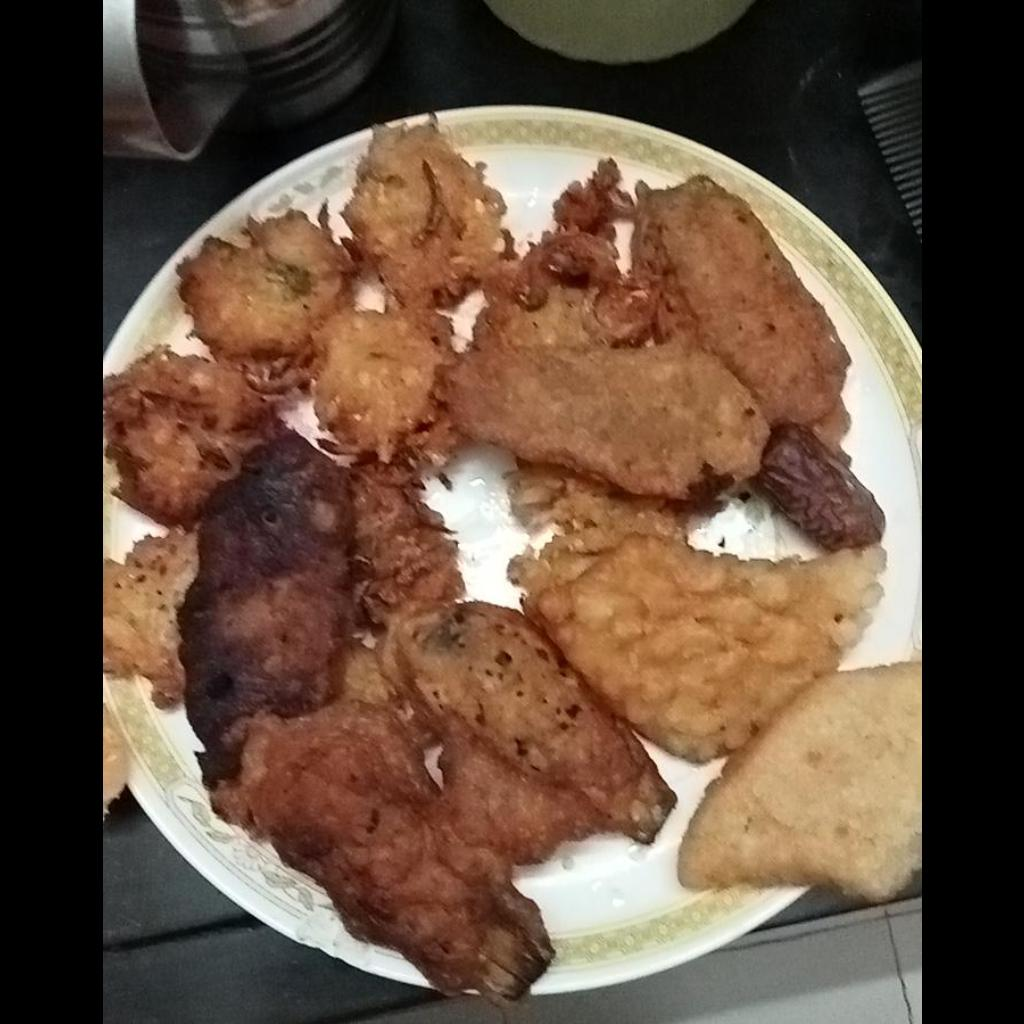beguni: (207, 175, 858, 993)
dates: (769, 441, 881, 540)
peyaju: (102, 127, 647, 700)
sweets: (547, 532, 920, 895)
